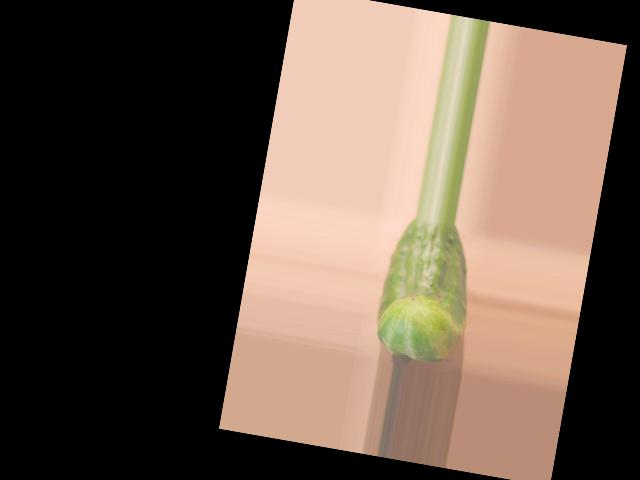cucumber: (370, 213, 481, 366)
